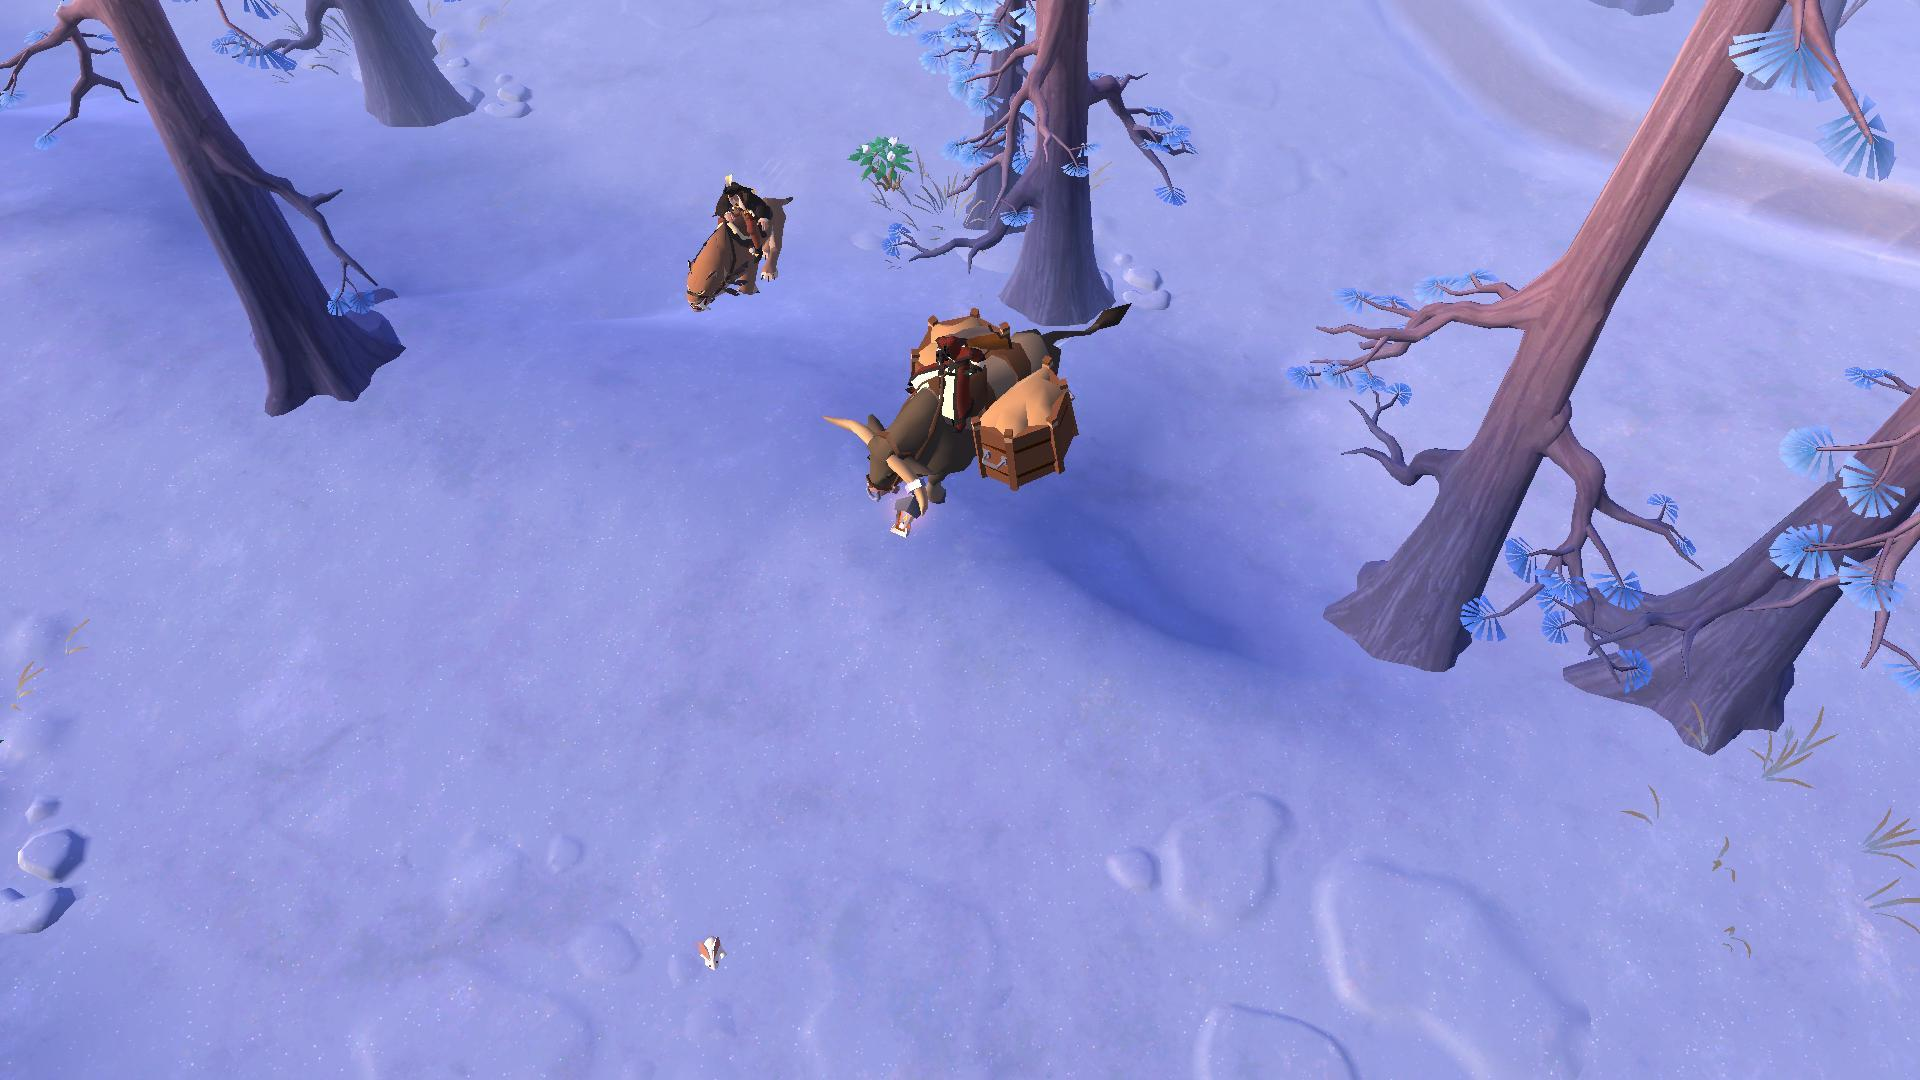fiber_t3: (845, 128, 915, 207)
